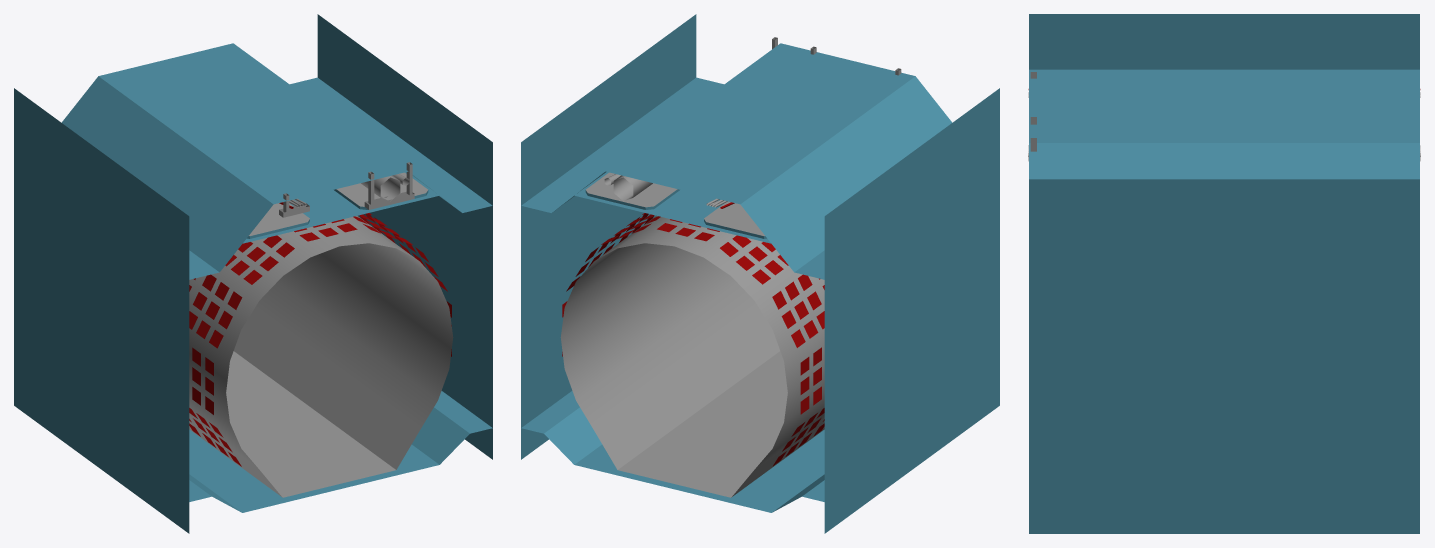
The model's file is glass tonnel lod1.FBX.
3 views of the same model, side by side, from view 1: azimuth 30°, elevation 25°; view 2: azimuth 150°, elevation 25°; view 3: azimuth 270°, elevation 25° (orthographic). The views are drawn at different scales.
Parts seen in each view (by area): view 1: Group234, Group233, Plane187, Plane186, cable other008; view 2: Group234, Group233, Plane186, Plane187, cable other008; view 3: Group234, Group233.
Boxes of the visible parts, x1=… form: Group234: x1=14, y1=14, x2=492, y2=533; Group233: x1=61, y1=43, x2=492, y2=279; Plane187: x1=189, y1=217, x2=400, y2=436; Plane186: x1=189, y1=213, x2=451, y2=456; cable other008: x1=361, y1=162, x2=414, y2=209; Group234: x1=521, y1=14, x2=999, y2=533; Group233: x1=521, y1=43, x2=952, y2=279; Plane186: x1=575, y1=214, x2=824, y2=465; Plane187: x1=562, y1=216, x2=824, y2=456; cable other008: x1=604, y1=37, x2=816, y2=201; Group234: x1=1029, y1=14, x2=1419, y2=533; Group233: x1=1029, y1=69, x2=1419, y2=179.
Size of the model in its own units: 4 by 4 by 4.01.
